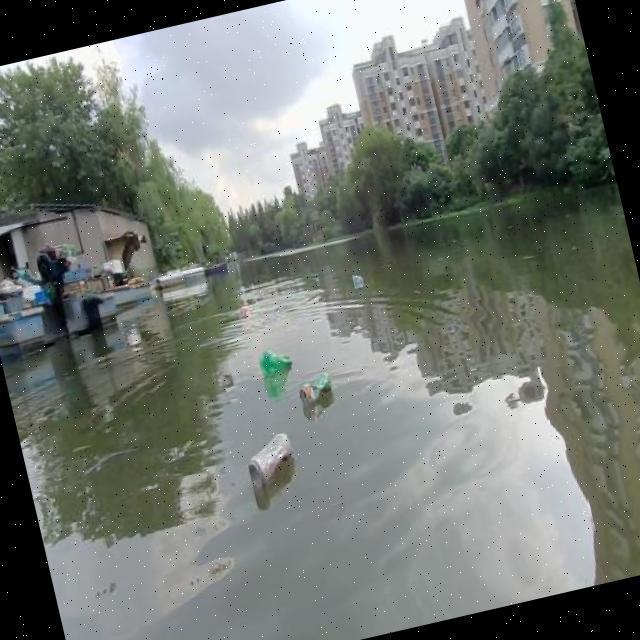Can: (243, 430, 297, 496), (290, 371, 340, 408)
Waste: (254, 346, 297, 382)
